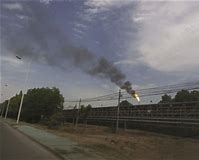smoke: (59, 43, 135, 98)
